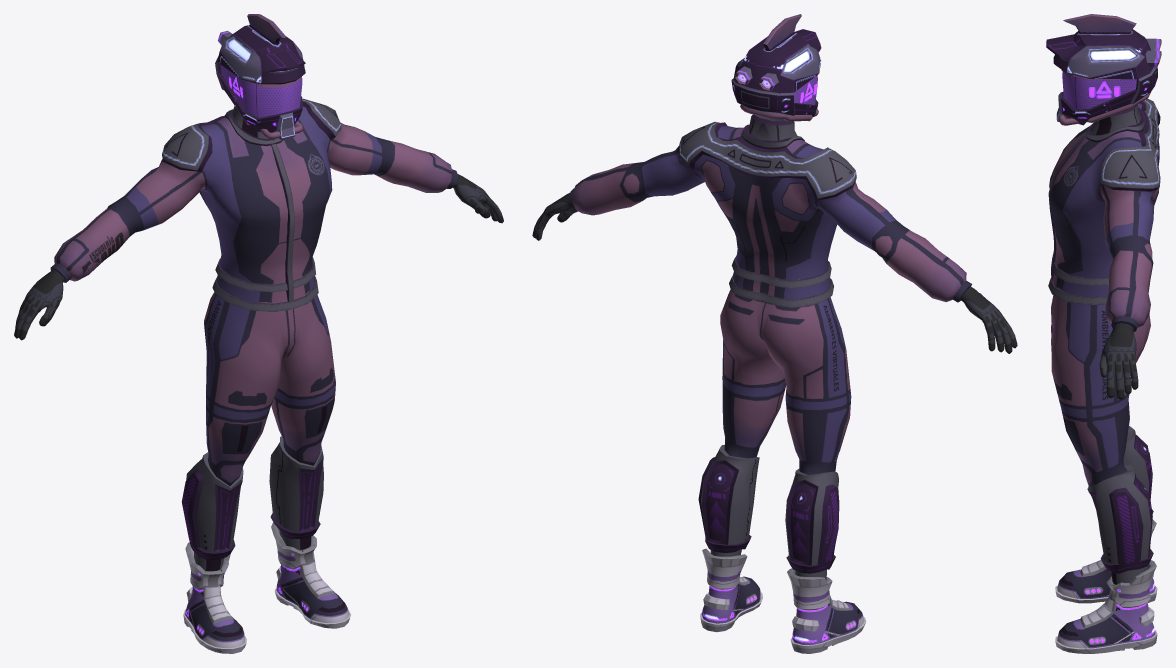
Rendered from tje_#5.fbx.
3 views of the same model, side by side, from view 1: azimuth 30°, elevation 25°; view 2: azimuth 150°, elevation 25°; view 3: azimuth 270°, elevation 25° (orthographic).
Parts seen in each view (by area): view 1: tje_#5; view 2: tje_#5; view 3: tje_#5.
Boxes of the visible parts, x1,y1,x2,y2 form: tje_#5: [14, 14, 503, 653]; tje_#5: [532, 14, 1017, 653]; tje_#5: [1046, 14, 1161, 653].
Size of the model in its own units: 148 by 177 by 30.46.
Materials: 1 (1 with a texture image).
